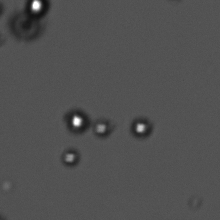Dead Cell: (9, 13, 44, 43)
Living Cell: (131, 113, 154, 141), (66, 109, 85, 135), (25, 1, 54, 18), (59, 146, 81, 166), (93, 119, 114, 139)
